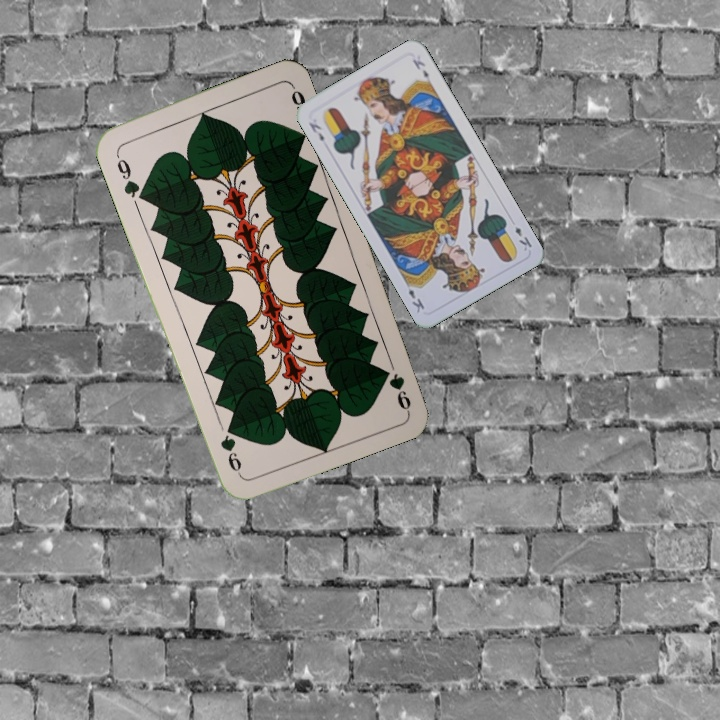EK: (511, 222, 534, 254), (305, 118, 327, 144)
G9: (111, 148, 147, 203), (386, 369, 414, 413)
